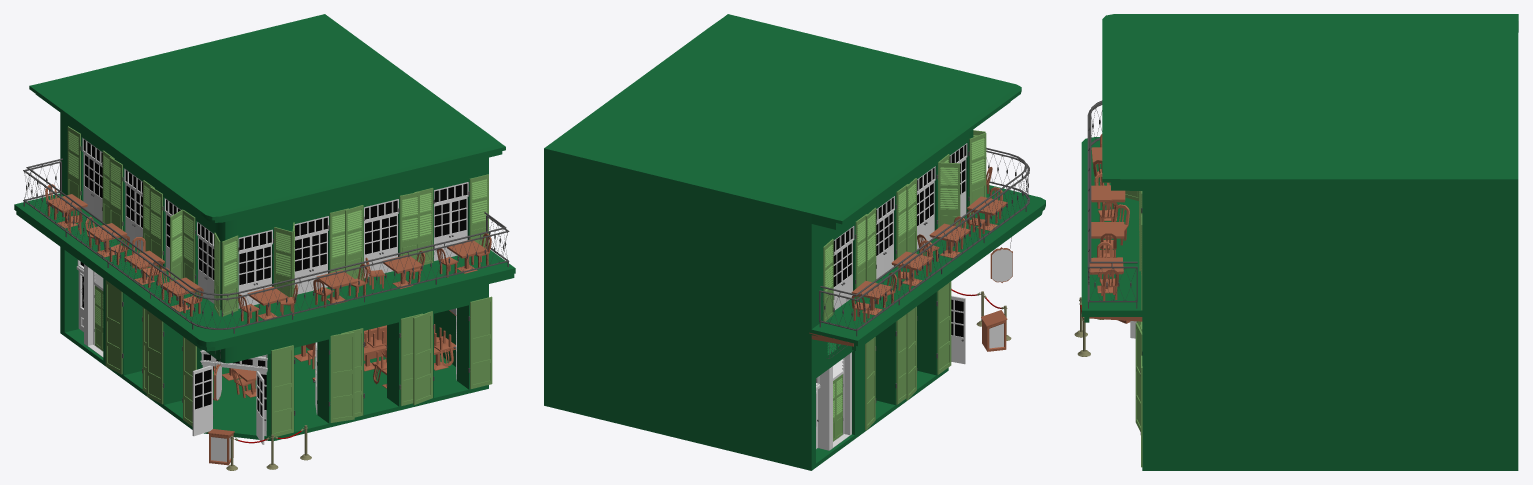
File: house6.fbx
3 views of the same model, side by side, from view 1: azimuth 30°, elevation 25°; view 2: azimuth 150°, elevation 25°; view 3: azimuth 270°, elevation 25° (orthographic). The views are drawn at different scales.
Visible parts, largest first — view 1: house10; view 2: house10; view 3: house10.
Boxes of the visible parts, left/top/right/bottom form: house10: left=14, top=14, right=515, bottom=470; house10: left=544, top=14, right=1045, bottom=470; house10: left=1074, top=14, right=1518, bottom=470.
Bounding box in the file's own units: 6.41 × 4.98 × 6.87.
